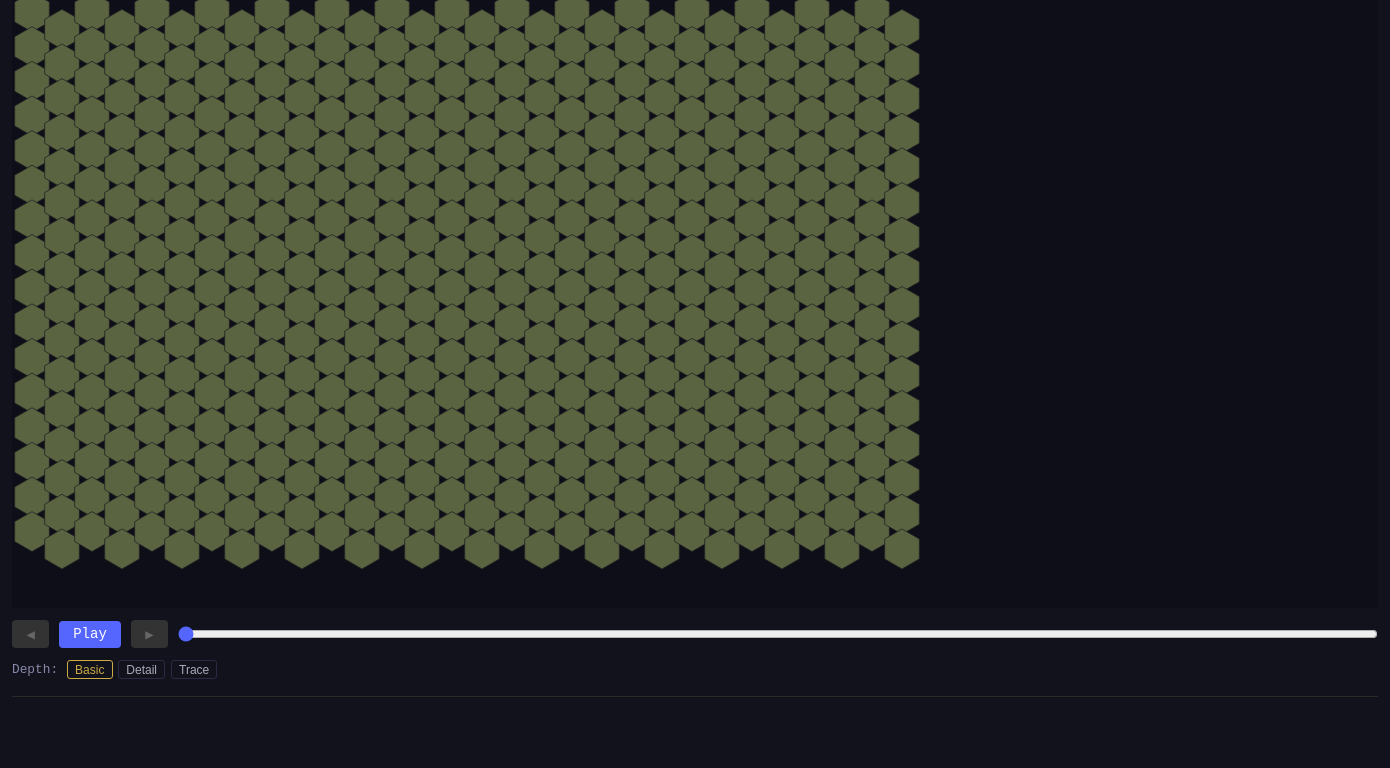
Test: the replay depth control › is CUMULATIVE: Detail carries Basic with it
(page scrolled)
What coordinates should you click on to do the following:
click the button with test id "replay-depth-detail"
I would click on:
 (142, 670)
Its box is [118, 660, 165, 679].
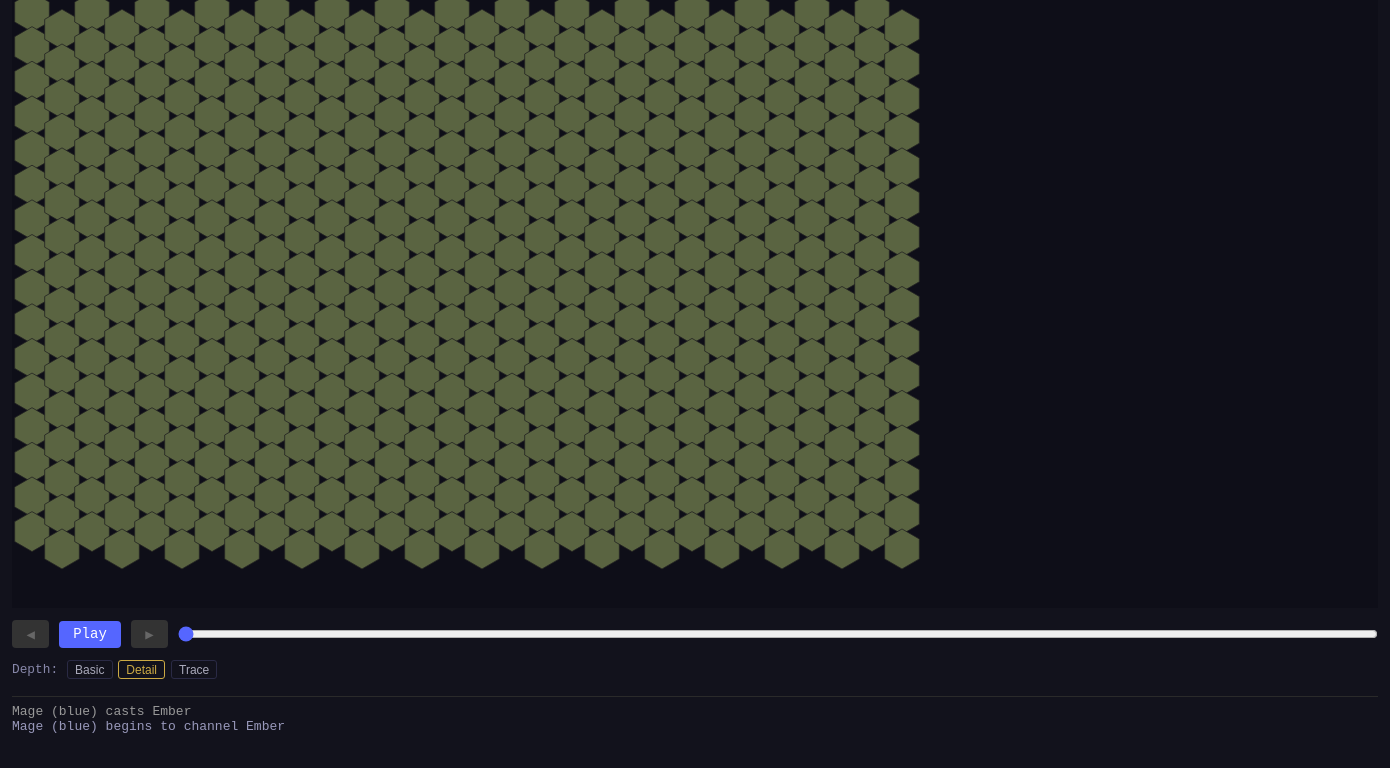
Expected: the element with test id "replay-log" does not show "is hit for", [12, 696, 1378, 767]
Result: the element with test id "replay-log" shows "begins to channel" at [12, 719, 285, 734]
Result: the element with test id "replay-log" shows "casts Ember" at [12, 704, 191, 719]
